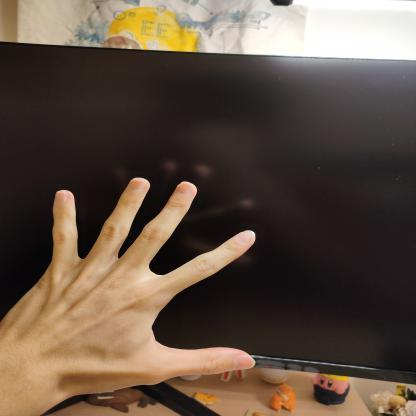bare_hand: (1, 166, 264, 416)
